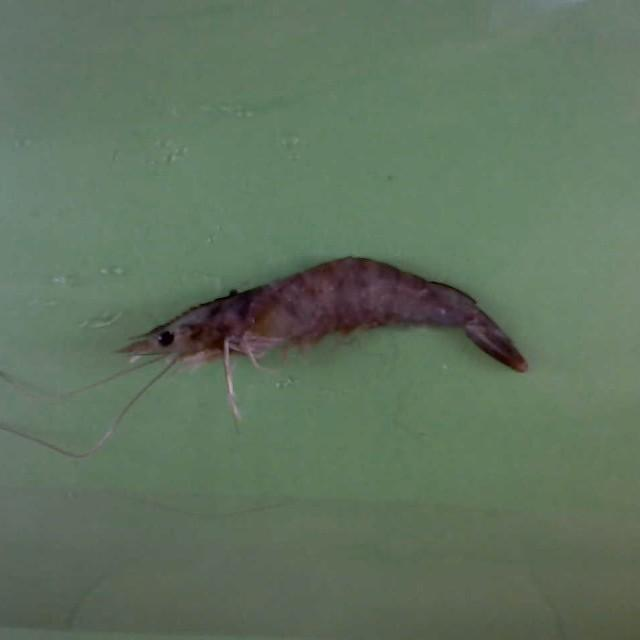shrimp: (120, 257, 529, 373)
